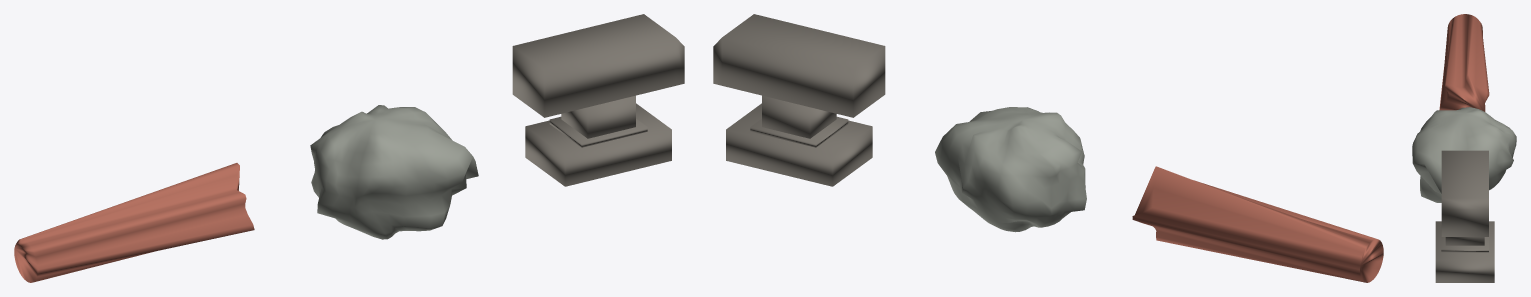
The model's file is Objects Falling.fbx.
3 views of the same model, side by side, from view 1: azimuth 30°, elevation 25°; view 2: azimuth 150°, elevation 25°; view 3: azimuth 270°, elevation 25° (orthographic). The views are drawn at different scales.
Parts seen in each view (by area): view 1: Cube.002, Bolder, Tree Stump; view 2: Cube.002, Bolder, Tree Stump; view 3: Cube.002, Bolder, Tree Stump.
Part boxes in pixels (x1,y1,x2,y2): Cube.002: (512, 14, 684, 186); Bolder: (310, 105, 478, 239); Tree Stump: (14, 163, 254, 282); Cube.002: (713, 14, 885, 186); Bolder: (935, 107, 1086, 232); Tree Stump: (1132, 166, 1383, 282); Cube.002: (1435, 150, 1494, 282); Bolder: (1412, 107, 1516, 202); Tree Stump: (1439, 14, 1489, 111).
Size of the model in its own units: 1864 by 366 by 355.
